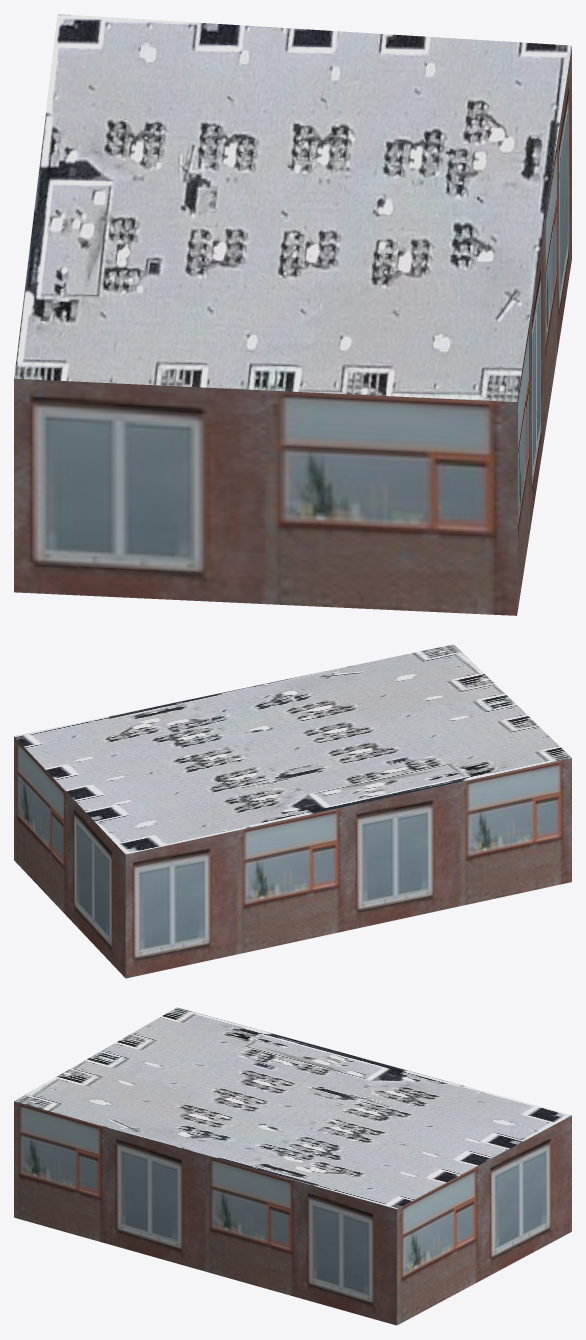
The model's file is ResTex__2465.fbx.
3 renders of one model, top to bottom at view 1: azimuth 30°, elevation 25°; view 2: azimuth 150°, elevation 25°; view 3: azimuth 270°, elevation 25°, orthographic. The views are drawn at different scales.
Parts seen in each view (by area): view 1: CityEngineMaterial_15_m, CityEngineMaterial_19_m; view 2: CityEngineMaterial_19_m, CityEngineMaterial_15_m; view 3: CityEngineMaterial_19_m, CityEngineMaterial_15_m.
Boxes of the visible parts, x1,y1,x2,y2 form: CityEngineMaterial_15_m: (14,14,571,401); CityEngineMaterial_19_m: (14,47,571,615); CityEngineMaterial_19_m: (14,736,571,978); CityEngineMaterial_15_m: (14,644,571,854); CityEngineMaterial_19_m: (14,1101,571,1325); CityEngineMaterial_15_m: (14,1007,571,1208).
Size of the model in its own units: 11.16 by 3 by 13.04.
Materials: 2 (2 with a texture image).
